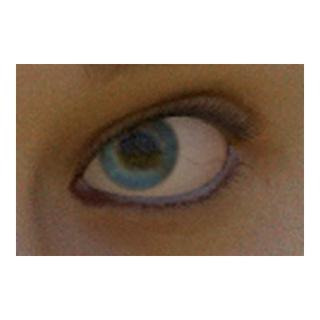pupil: (122, 134, 153, 165)
